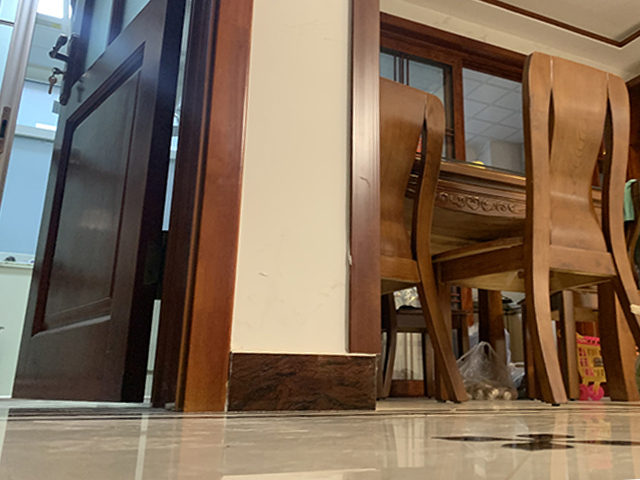stool: (432, 49, 640, 406), (379, 76, 467, 404)
